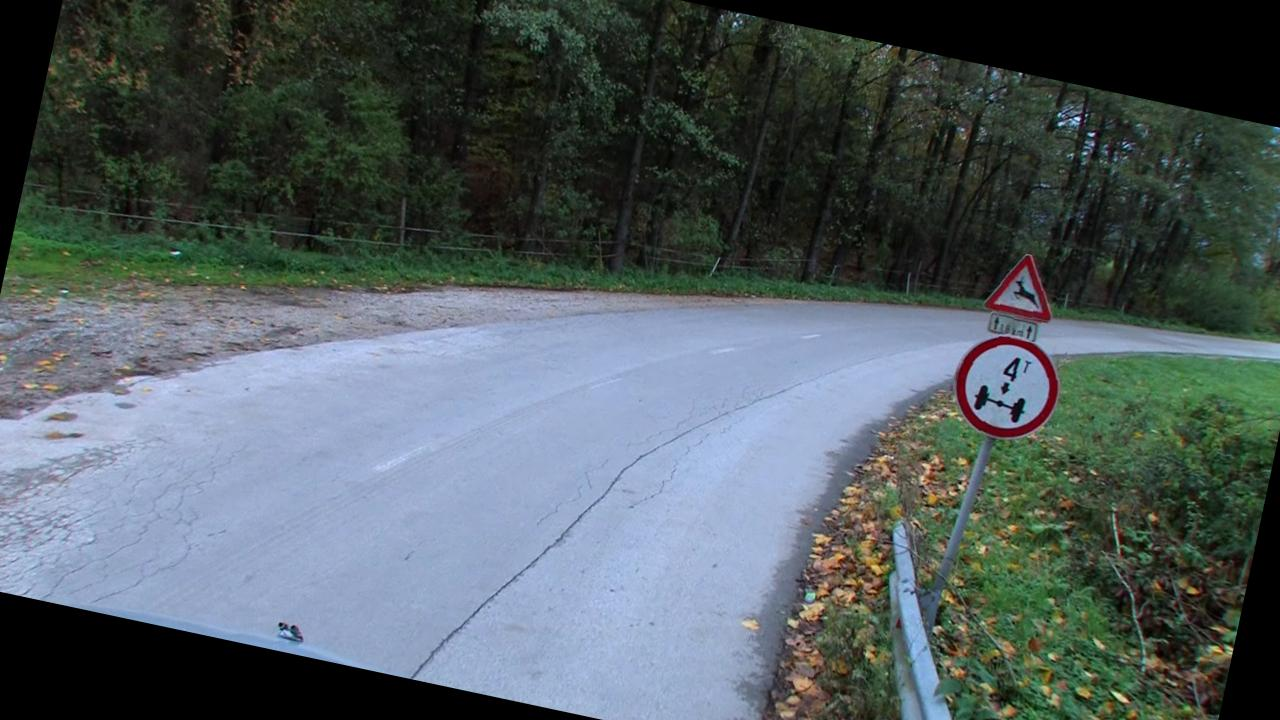Rectangle: (987, 310, 1041, 344)
Round: (943, 327, 1068, 454)
Triangle: (980, 248, 1064, 324)
